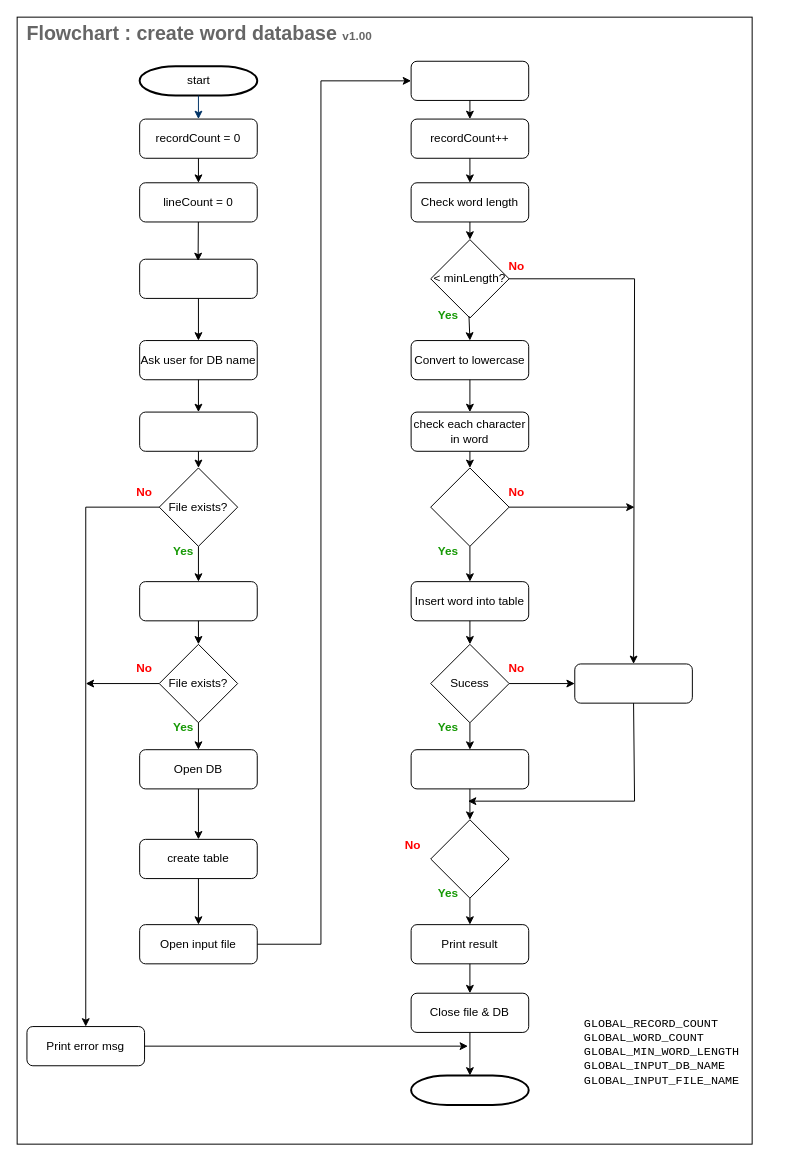
Image size: 801x1161. Some labels were removed from this diagram. The box of each missing label's shape, as (x1, y1, x2, y2) in pixels:
Ask user for input file: (139, 581, 257, 621)
Check if file exists: (139, 411, 257, 451)
discard word: (574, 663, 692, 703)
End: (410, 1074, 529, 1105)
EOF?: (430, 819, 509, 898)
Is a letter?: (430, 467, 509, 546)
lineCount++: (410, 749, 529, 789)
minLength = 4: (139, 258, 257, 298)
read line from file: (410, 60, 529, 100)
